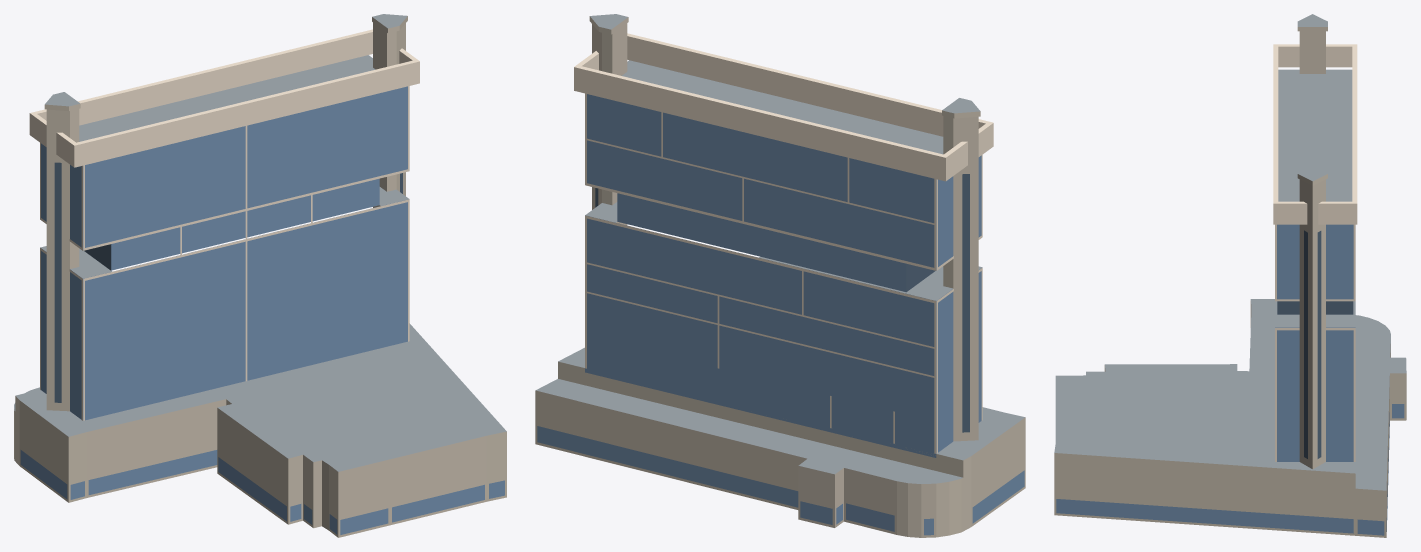
The model's file is clt-westin.glb.
3 renders of one model, left to right at view 1: azimuth 30°, elevation 25°; view 2: azimuth 150°, elevation 25°; view 3: azimuth 270°, elevation 25°, orthographic. The views are drawn at different scales.
Visible parts, largest first — view 1: The Westin Charlotte; view 2: The Westin Charlotte; view 3: The Westin Charlotte.
Boxes of the visible parts, left/top/right/bottom form: The Westin Charlotte: left=14, top=14, right=506, bottom=537; The Westin Charlotte: left=535, top=14, right=1025, bottom=537; The Westin Charlotte: left=1054, top=14, right=1406, bottom=537.
Bounding box in the file's own units: 100 × 93 × 84.54.
